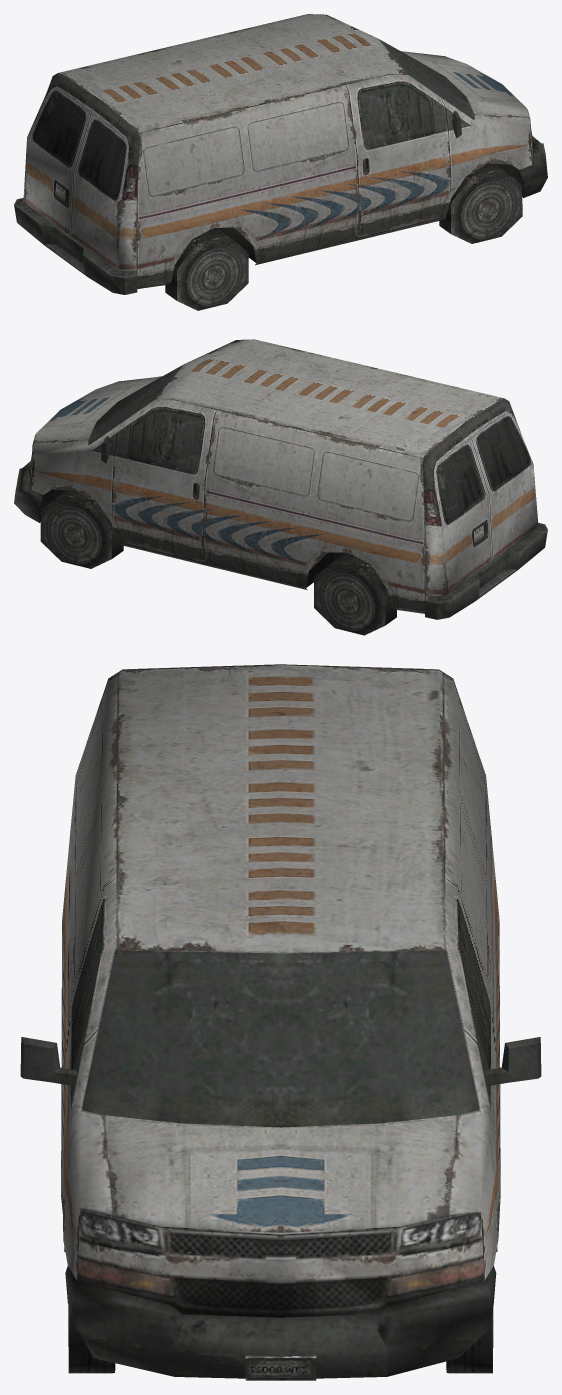
Rendered from Prop_Wj034new.glb.
3 renders of one model, top to bottom at view 1: azimuth 30°, elevation 25°; view 2: azimuth 150°, elevation 25°; view 3: azimuth 270°, elevation 25°, orthographic. The views are drawn at different scales.
Visible parts, largest first — view 1: xiutz_wj034new; view 2: xiutz_wj034new; view 3: xiutz_wj034new.
Part boxes in pixels (bbox=[...]): xiutz_wj034new: bbox=[14, 14, 547, 310]; xiutz_wj034new: bbox=[14, 339, 547, 635]; xiutz_wj034new: bbox=[20, 664, 541, 1380].
Size of the model in its own units: 8.02 by 3.07 by 3.94.
Materials: 1 (1 with a texture image).
